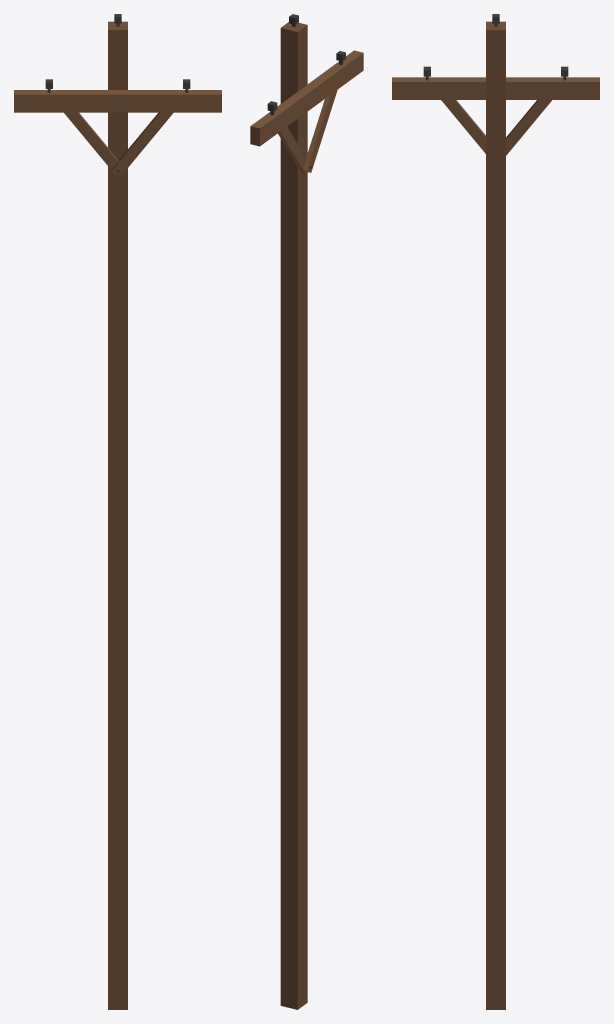
The model's file is PowerLines_01.glb.
3 views of the same model, side by side, from view 1: azimuth 90°, elevation 25°; view 2: azimuth 150°, elevation 25°; view 3: azimuth 270°, elevation 25° (orthographic).
Visible parts, largest first — view 1: PowerLines_01; view 2: PowerLines_01; view 3: PowerLines_01.
Part boxes in pixels (x1=…): PowerLines_01: x1=14, y1=14, x2=221, y2=1009; PowerLines_01: x1=250, y1=14, x2=363, y2=1009; PowerLines_01: x1=392, y1=14, x2=599, y2=1009.
Bounding box in the file's own units: 0.1529 × 5.51 × 1.05.
Materials: 1 (1 with a texture image).
